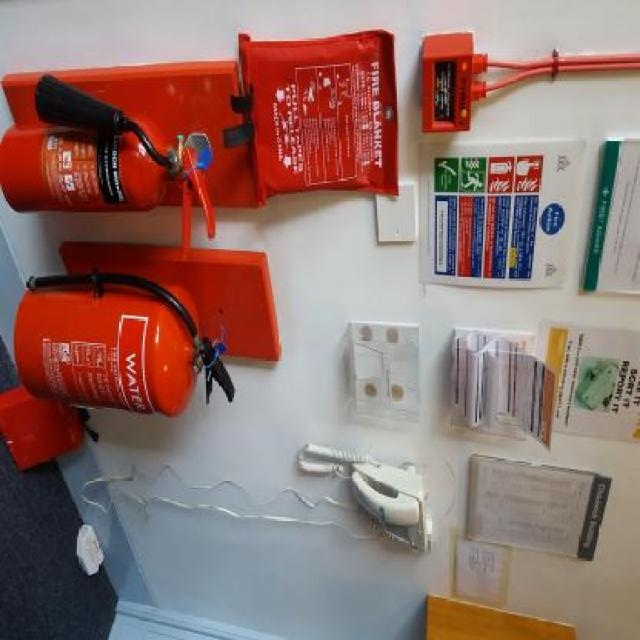fire extinguisher: (1, 74, 217, 261), (14, 269, 235, 417)
